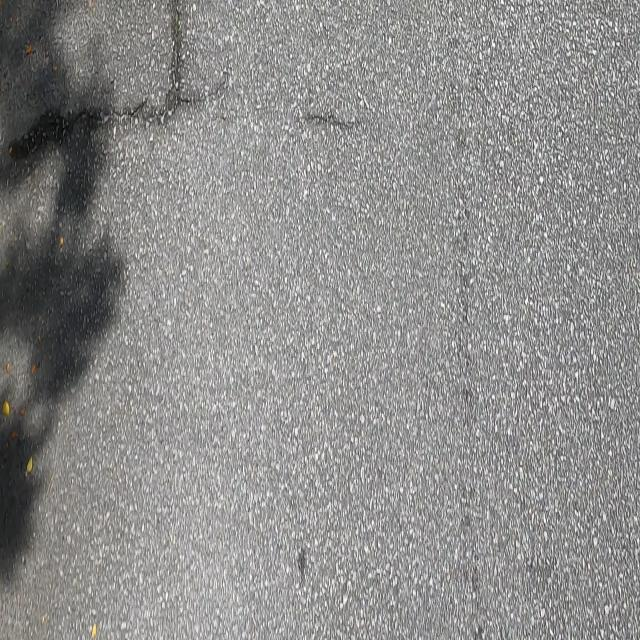Retak-Melintang: (6, 89, 198, 175)
Retak-Memanjang: (171, 3, 180, 91)
